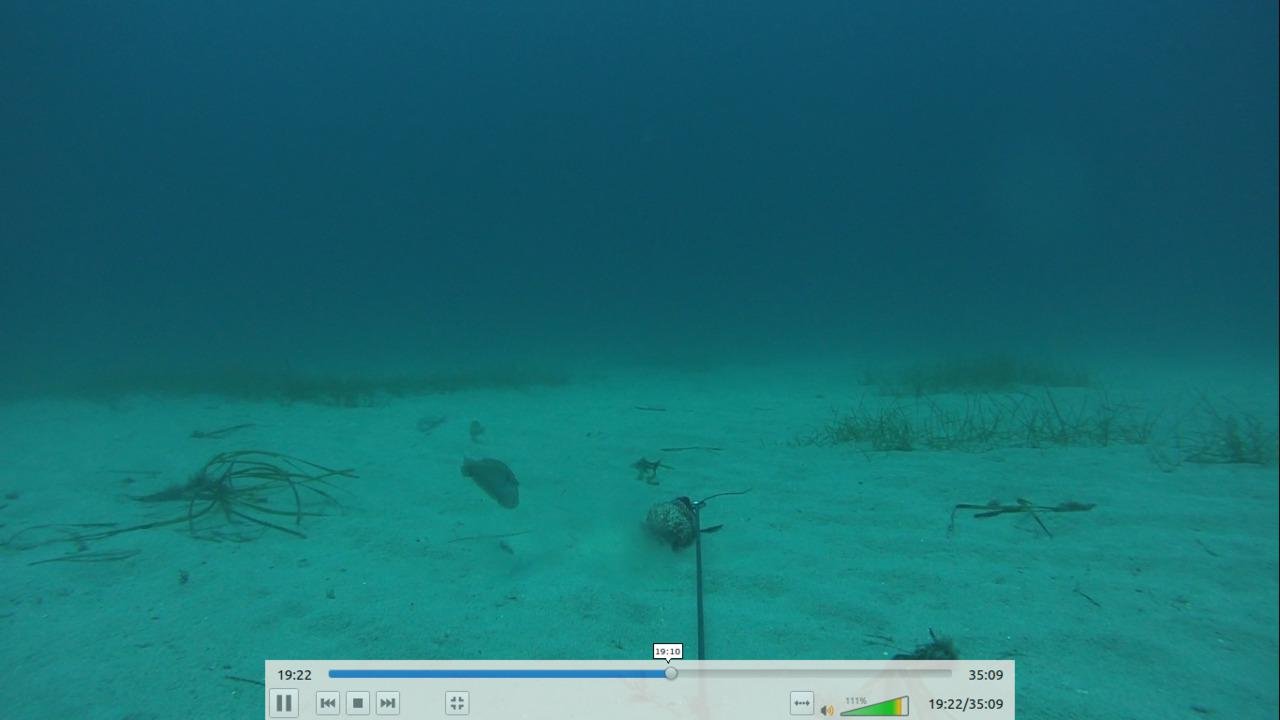raor: (447, 447, 524, 514)
